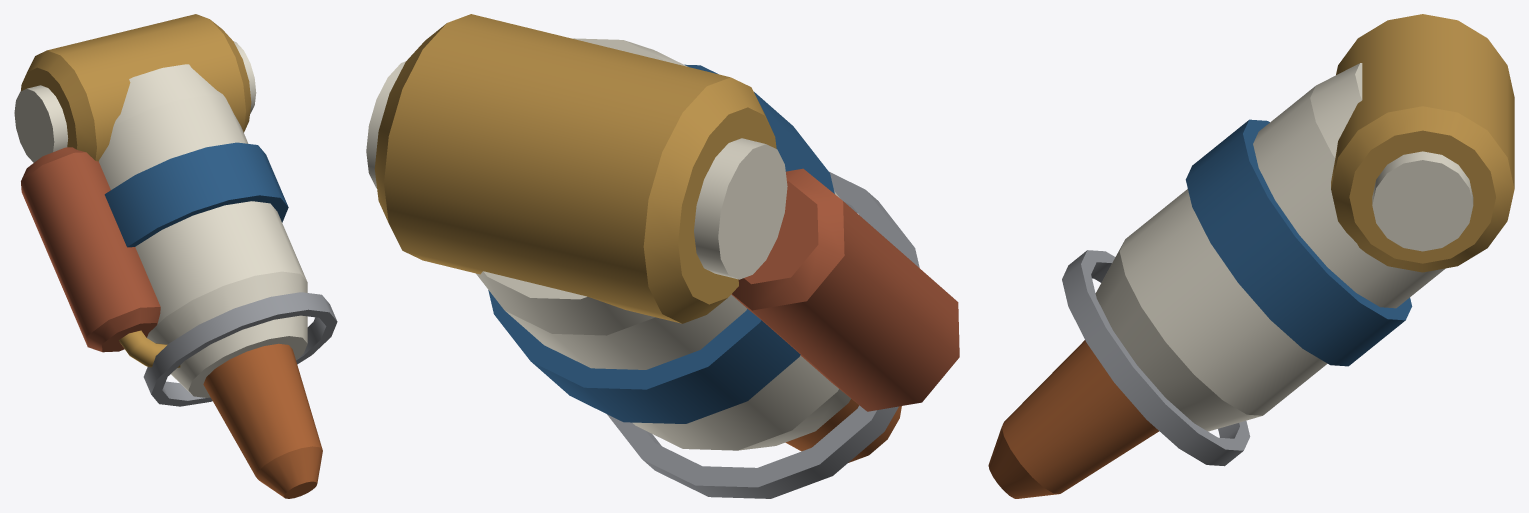
File: rm2_cutter.obj
3 renders of one model, left to right at view 1: azimuth 30°, elevation 25°; view 2: azimuth 150°, elevation 25°; view 3: azimuth 270°, elevation 25°, orthographic. The views are drawn at different scales.
Parts seen in each view (by area): view 1: rm2_cutter; view 2: rm2_cutter; view 3: rm2_cutter.
Boxes of the visible parts, <box> form: rm2_cutter: <box>14,14,337,498</box>; rm2_cutter: <box>366,14,959,498</box>; rm2_cutter: <box>988,14,1514,498</box>.
Size of the model in its own units: 0.135 by 0.1889 by 0.2064.
